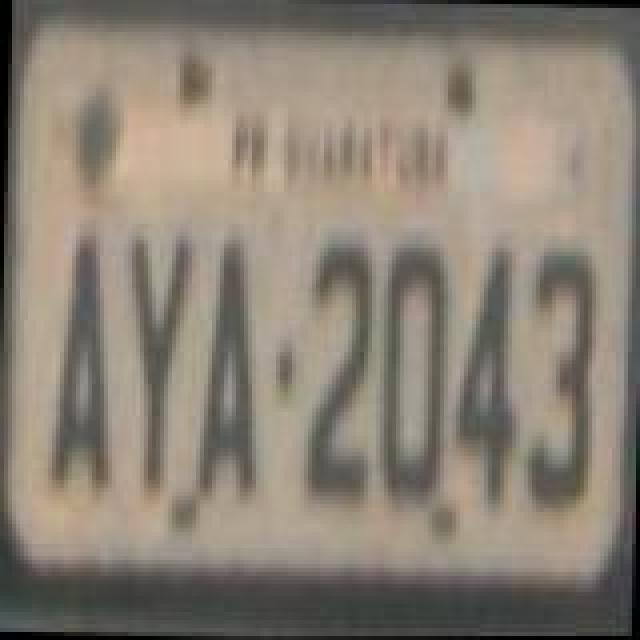2: (300, 228, 376, 504)
3: (520, 238, 596, 514)
4: (450, 240, 522, 504)
A: (196, 234, 264, 498), (44, 236, 112, 492)
O: (378, 236, 450, 504)
Y: (122, 228, 194, 496)
